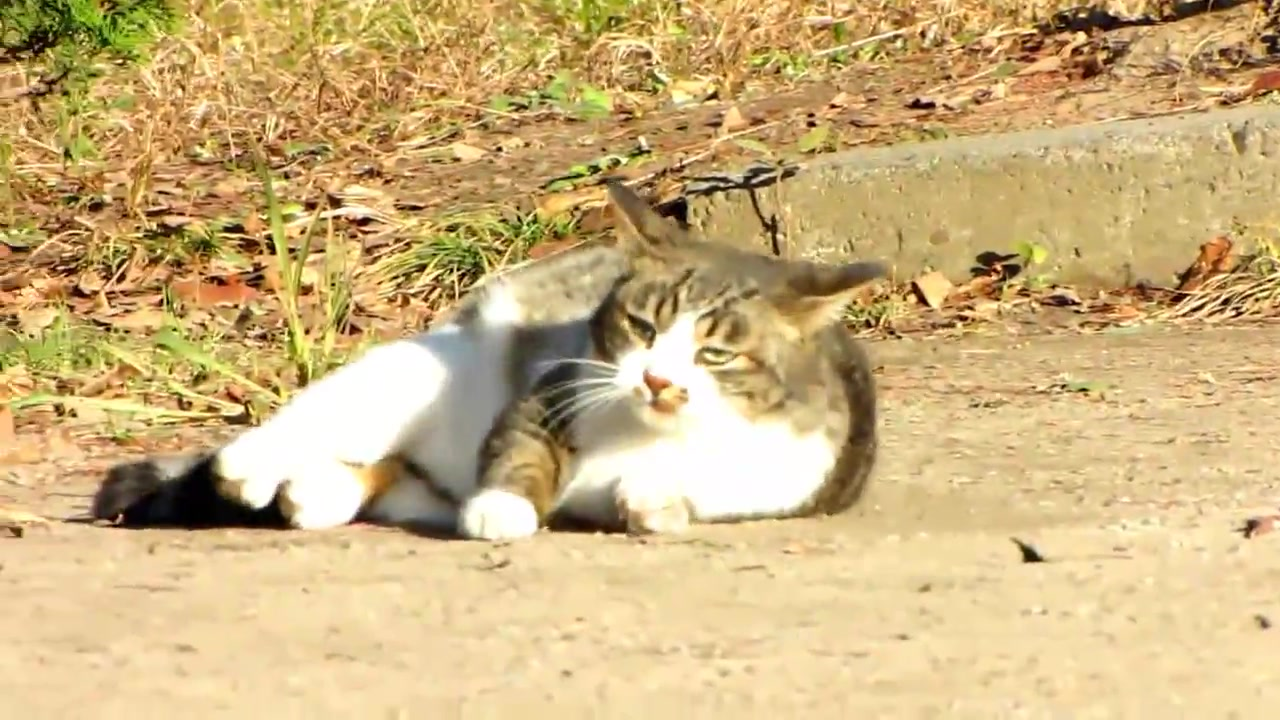cat: (88, 179, 880, 544)
